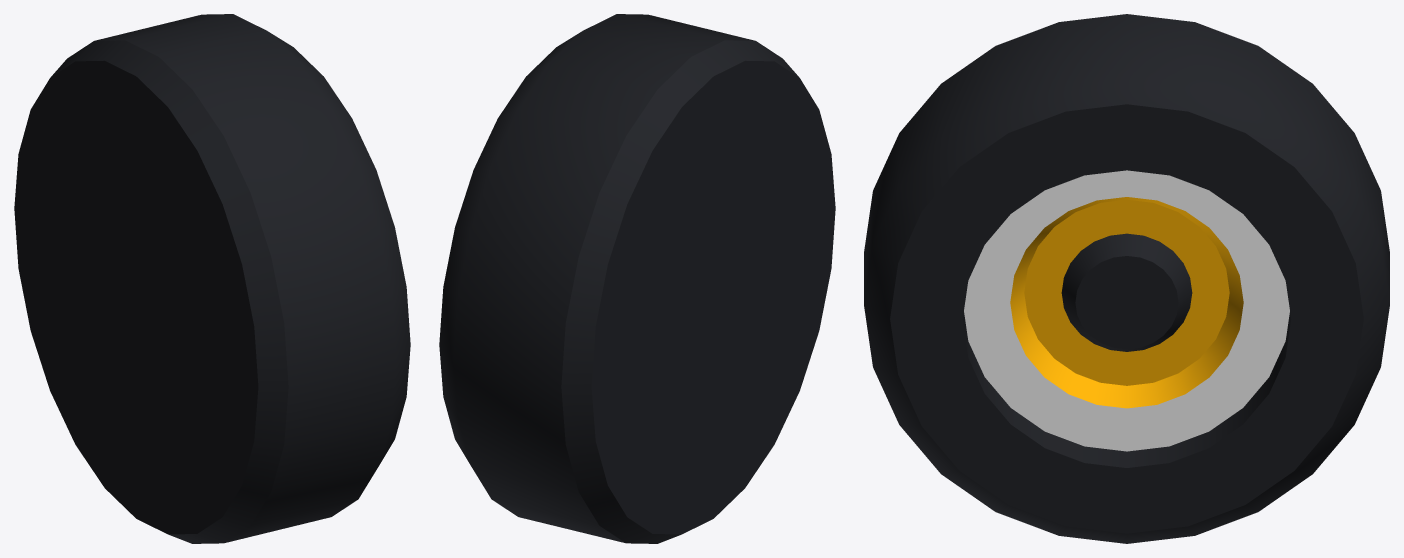
The model's file is OrangeJeep_wheel.glb.
3 views of the same model, side by side, from view 1: azimuth 30°, elevation 25°; view 2: azimuth 150°, elevation 25°; view 3: azimuth 270°, elevation 25° (orthographic).
Visible parts, largest first — view 1: wheel_standard; view 2: wheel_standard; view 3: wheel_standard.
Boxes of the visible parts, x1,y1,x2,y2 form: wheel_standard: [14, 14, 410, 543]; wheel_standard: [439, 14, 835, 543]; wheel_standard: [864, 14, 1389, 543].
Bounding box in the file's own units: 0.2163 × 0.6161 × 0.6161.
